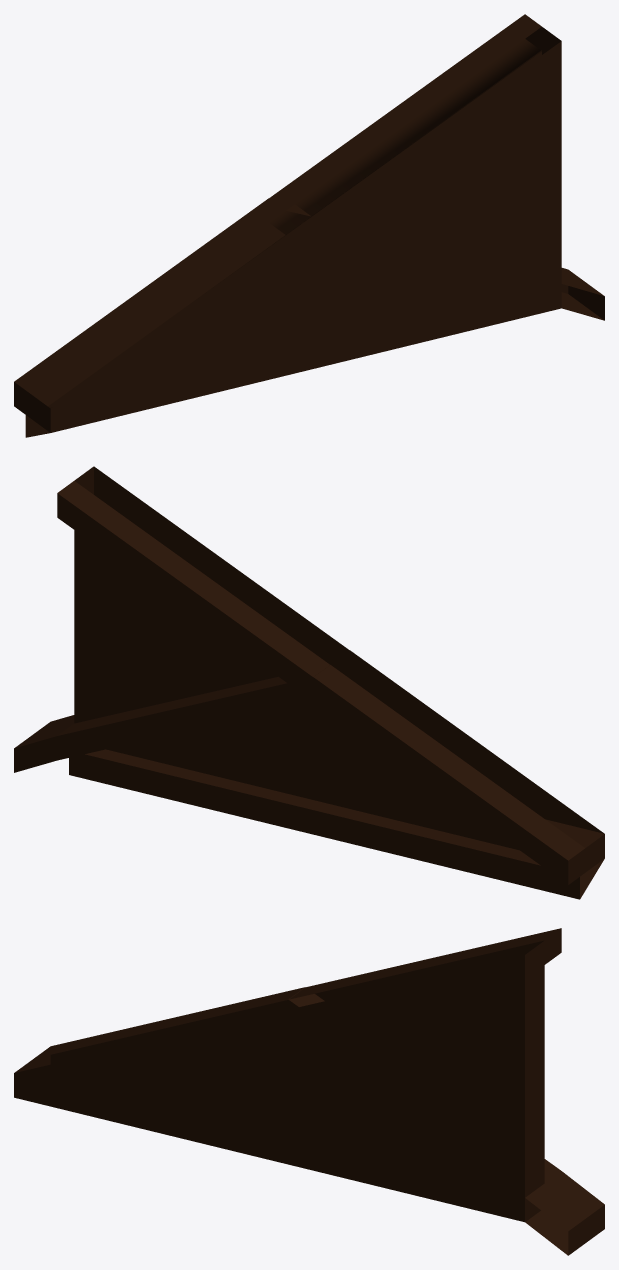
Rendered from Kit_Archi_Roof_Side.fbx.
3 renders of one model, top to bottom at view 1: azimuth 30°, elevation 25°; view 2: azimuth 150°, elevation 25°; view 3: azimuth 330°, elevation 25°, orthographic.
Visible parts, largest first — view 1: Roof_001, Object003, Roof_003, Roof_009; view 2: Object003, Roof_001, Roof_003, Roof_009; view 3: Roof_001, Roof_003, Roof_009, Object003.
Part boxes in pixels (x1,y1,x2,y2): Roof_001: (15,14,561,432); Object003: (14,198,310,432); Roof_003: (25,284,561,437); Roof_009: (561,268,604,320); Object003: (57,650,604,884); Roof_001: (57,466,584,860); Roof_003: (69,749,604,899); Roof_009: (14,715,74,772); Roof_001: (14,928,561,1222); Roof_003: (14,1073,524,1208); Roof_009: (525,1171,604,1255); Object003: (14,987,561,1221).
Bounding box in the file's own units: 325 × 163 × 37.28.
